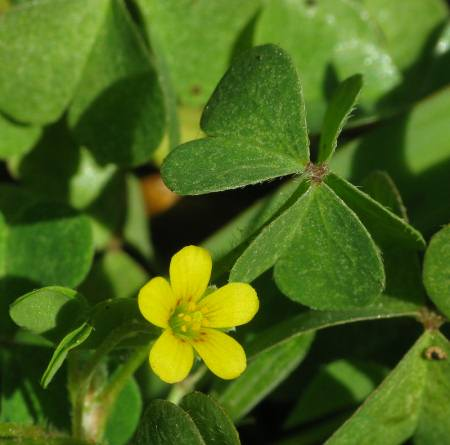oxalis: (137, 74, 438, 304), (104, 325, 356, 445)
